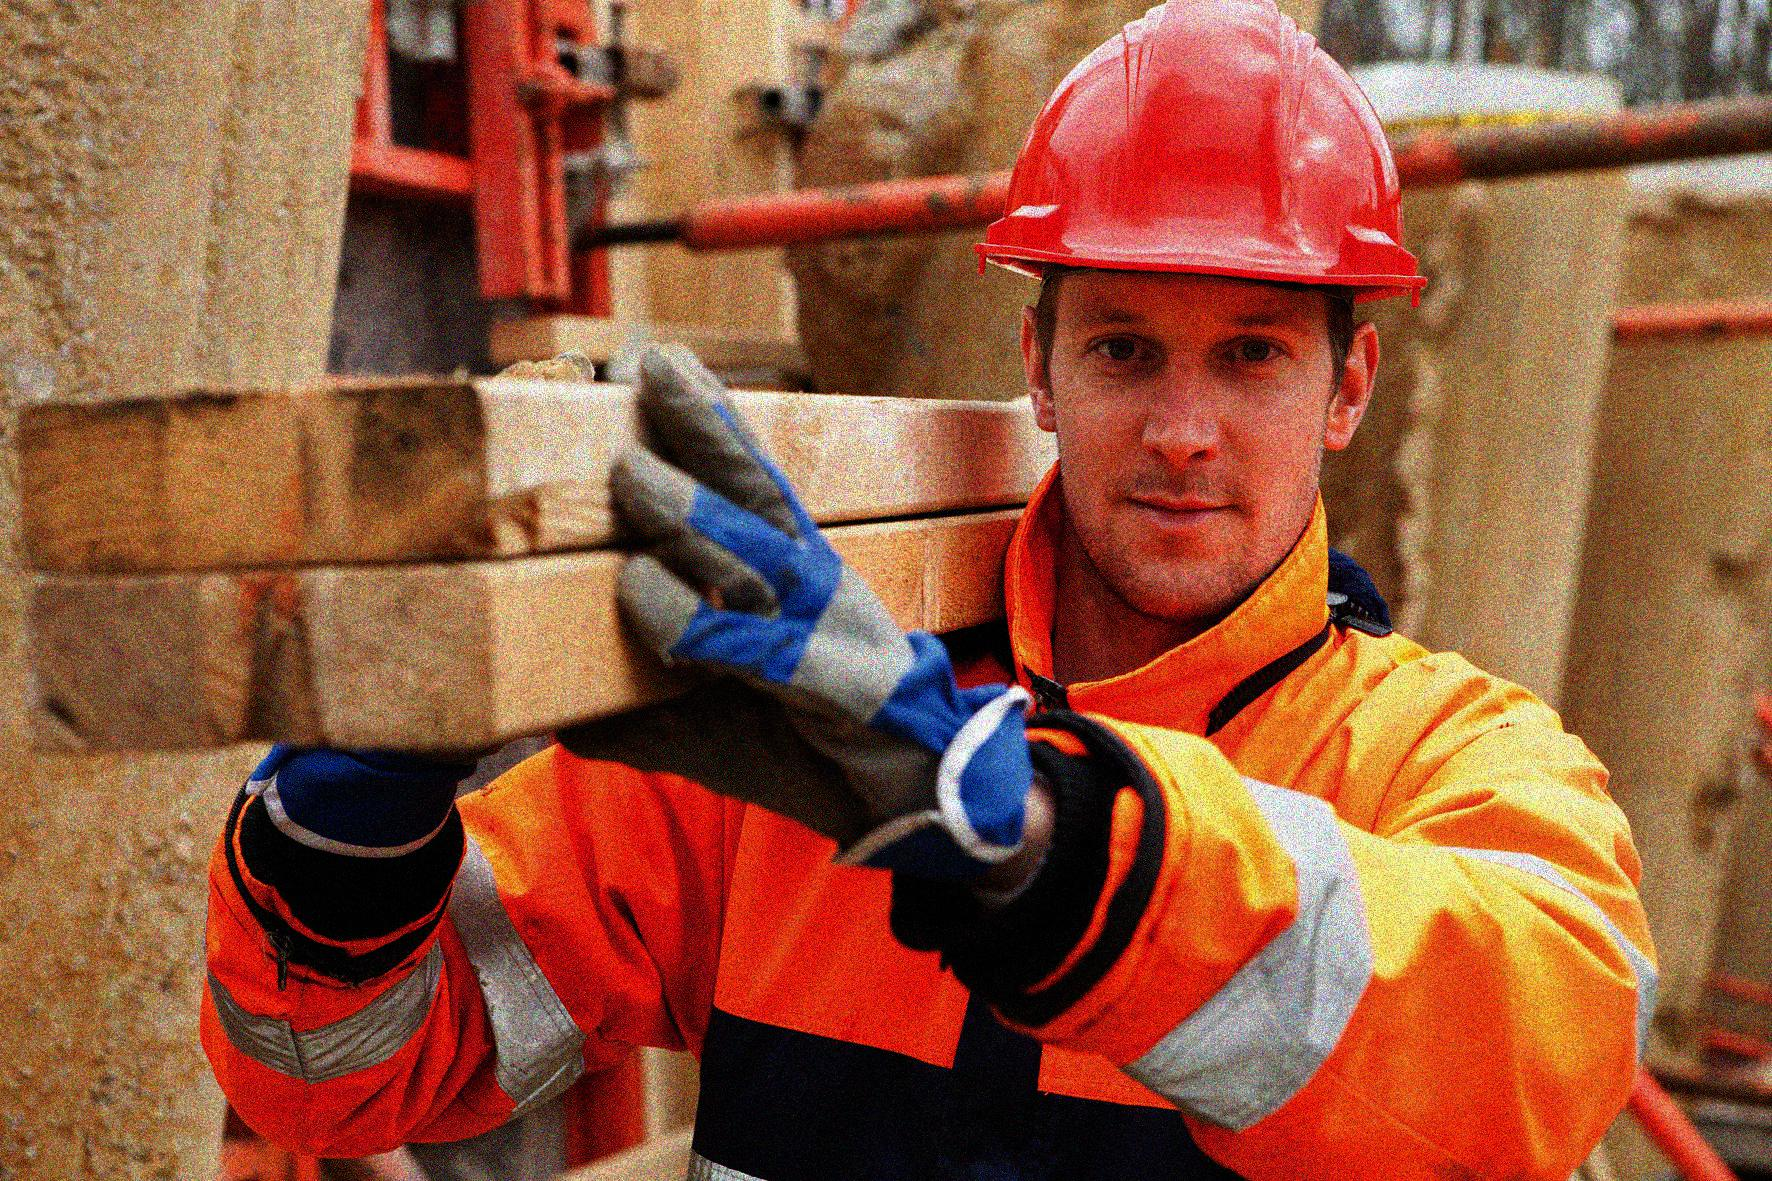helmet: (964, 1, 1435, 619)
